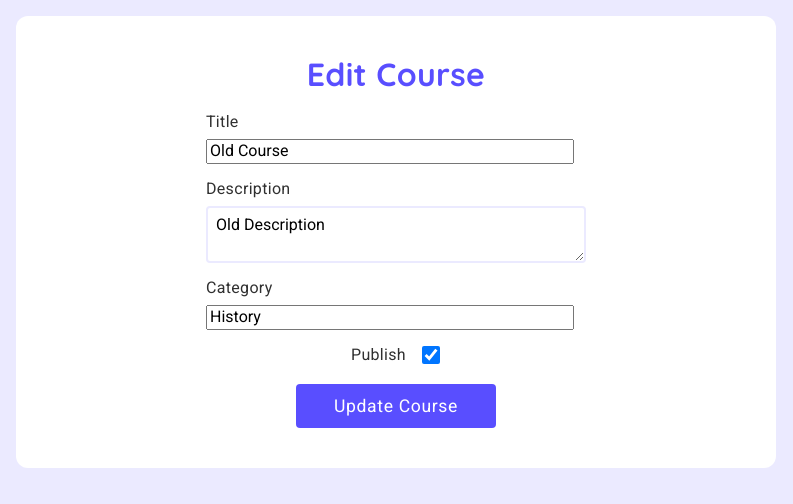
Test: CourseForm Component › displays validation error when title is empty during course update
Clear the field labelled "Title" at (390, 151), box [206,139,574,164]
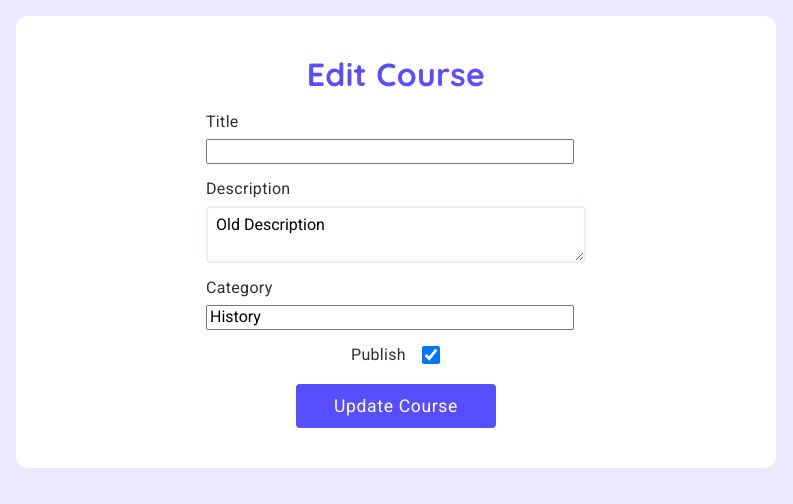
Click the button "Update Course" at (396, 406), box [296,384,496,428]
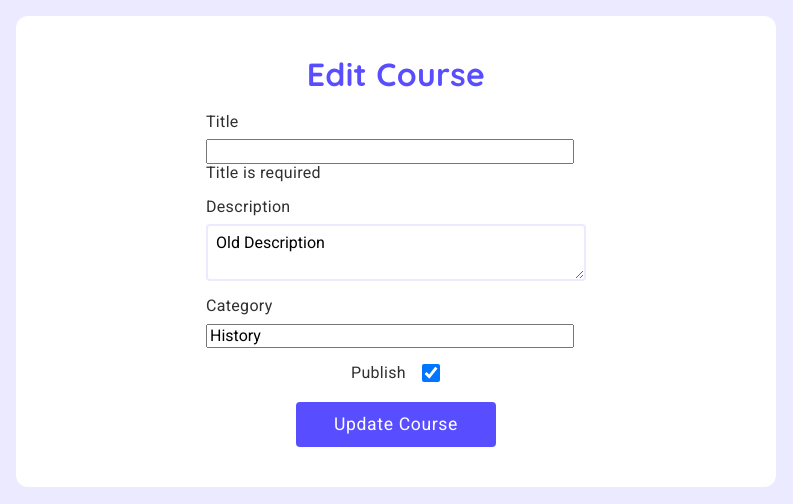
Expected: the text "Title is required" is shown, [206,163,321,182]
